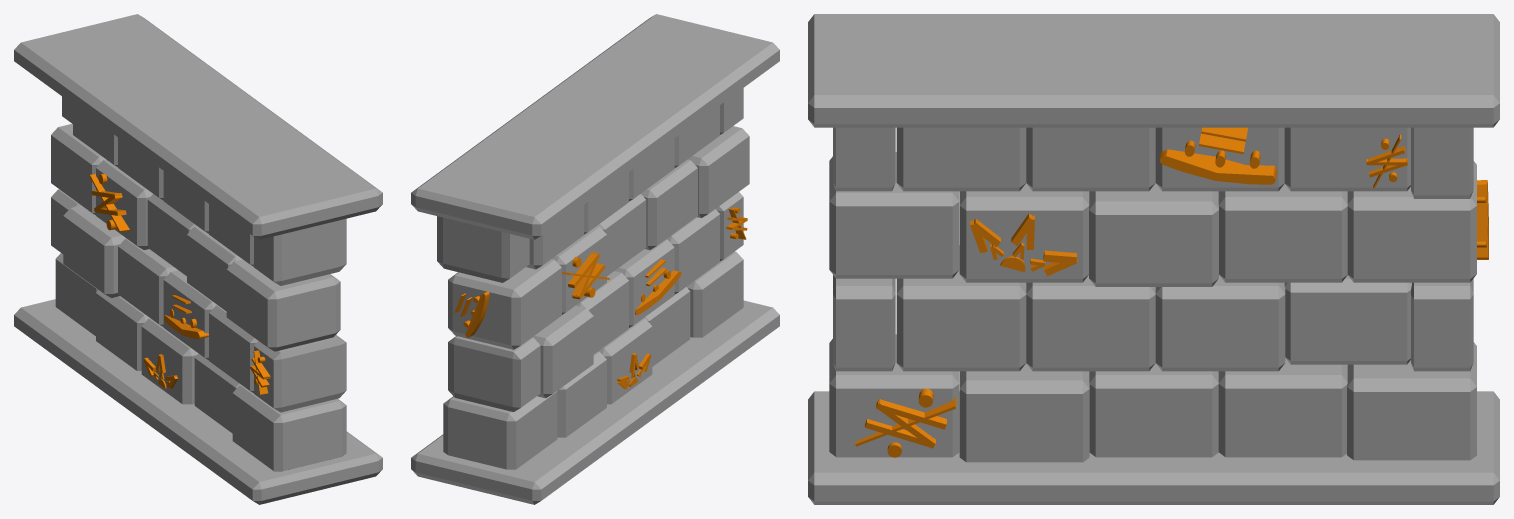
Rendered from Small_Wall.fbx.
3 views of the same model, side by side, from view 1: azimuth 30°, elevation 25°; view 2: azimuth 150°, elevation 25°; view 3: azimuth 270°, elevation 25° (orthographic). The views are drawn at different scales.
Visible parts, largest first — view 1: pCube40; view 2: pCube40; view 3: pCube40.
Part boxes in pixels (<box>): pCube40: <box>14,14,382,504</box>; pCube40: <box>411,14,779,504</box>; pCube40: <box>808,14,1499,504</box>.
Bounding box in the file's own units: 7.97 × 16.83 × 25.75.
